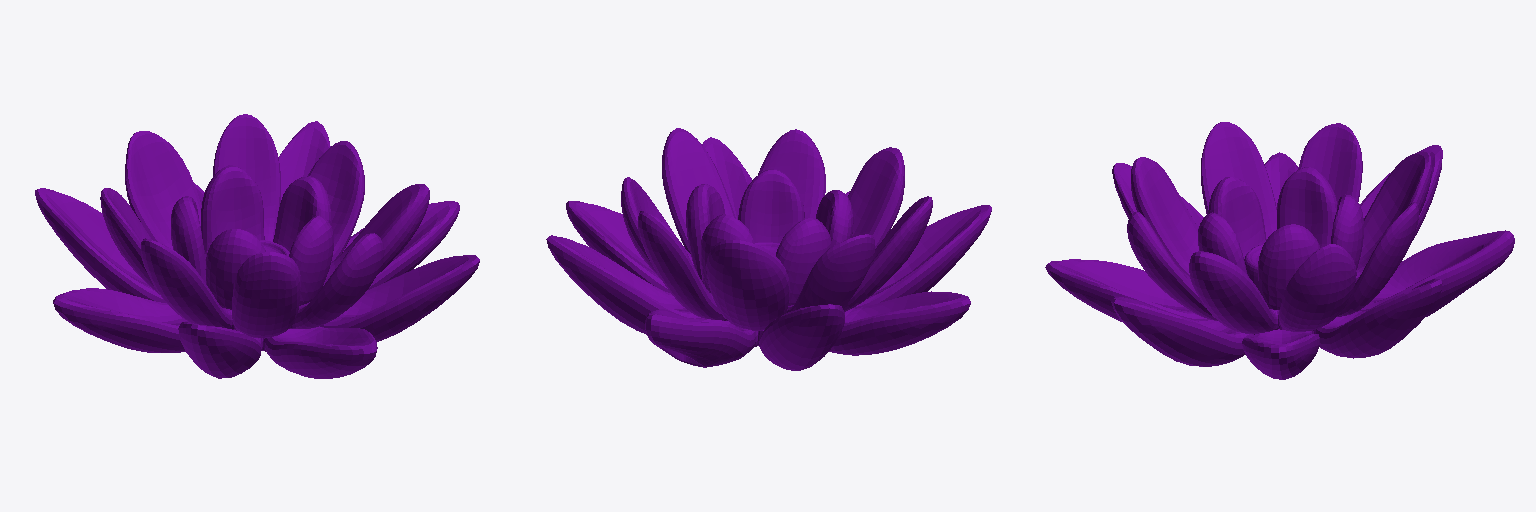
File: flowerpurple.obj
3 views of the same model, side by side, from view 1: azimuth 30°, elevation 25°; view 2: azimuth 150°, elevation 25°; view 3: azimuth 270°, elevation 25° (orthographic).
Visible parts, largest first — view 1: F; view 2: F; view 3: F.
Part boxes in pixels (bbox=[...]): F: bbox=[35, 114, 479, 378]; F: bbox=[546, 128, 991, 370]; F: bbox=[1045, 122, 1514, 379].
Bounding box in the file's own units: 5.76 × 2.19 × 5.77.